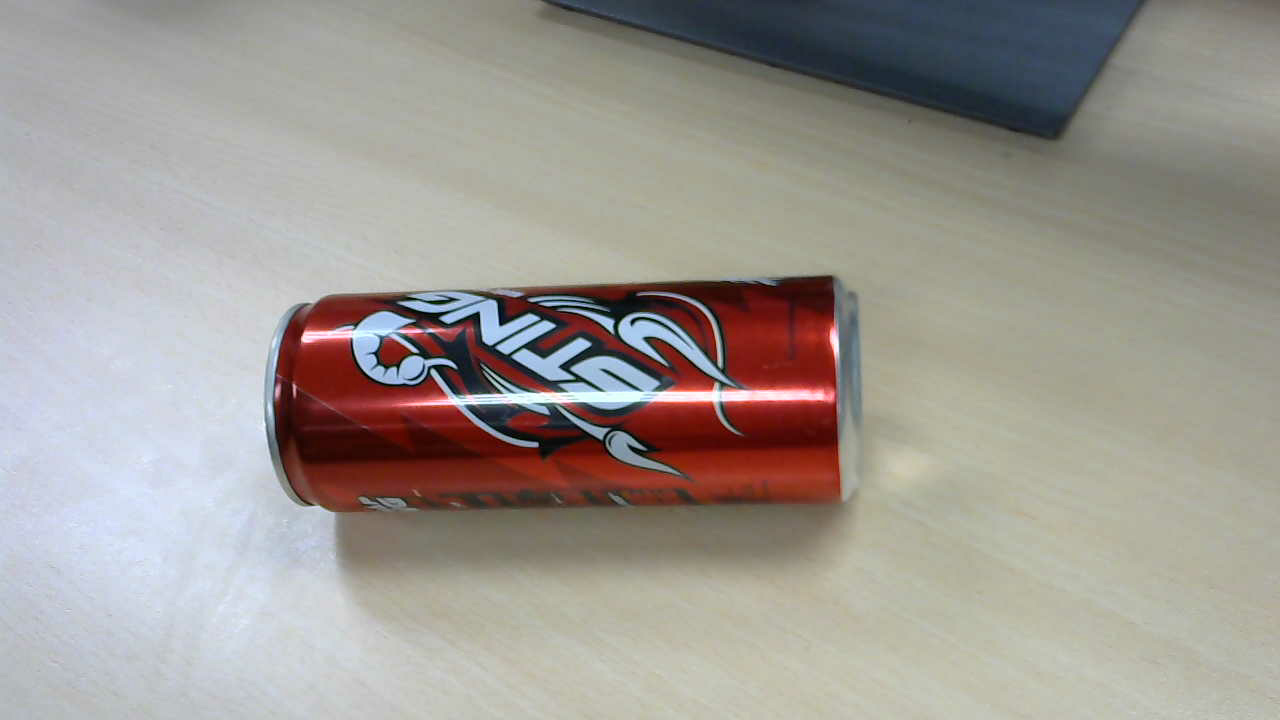Sting: (265, 278, 858, 521)
